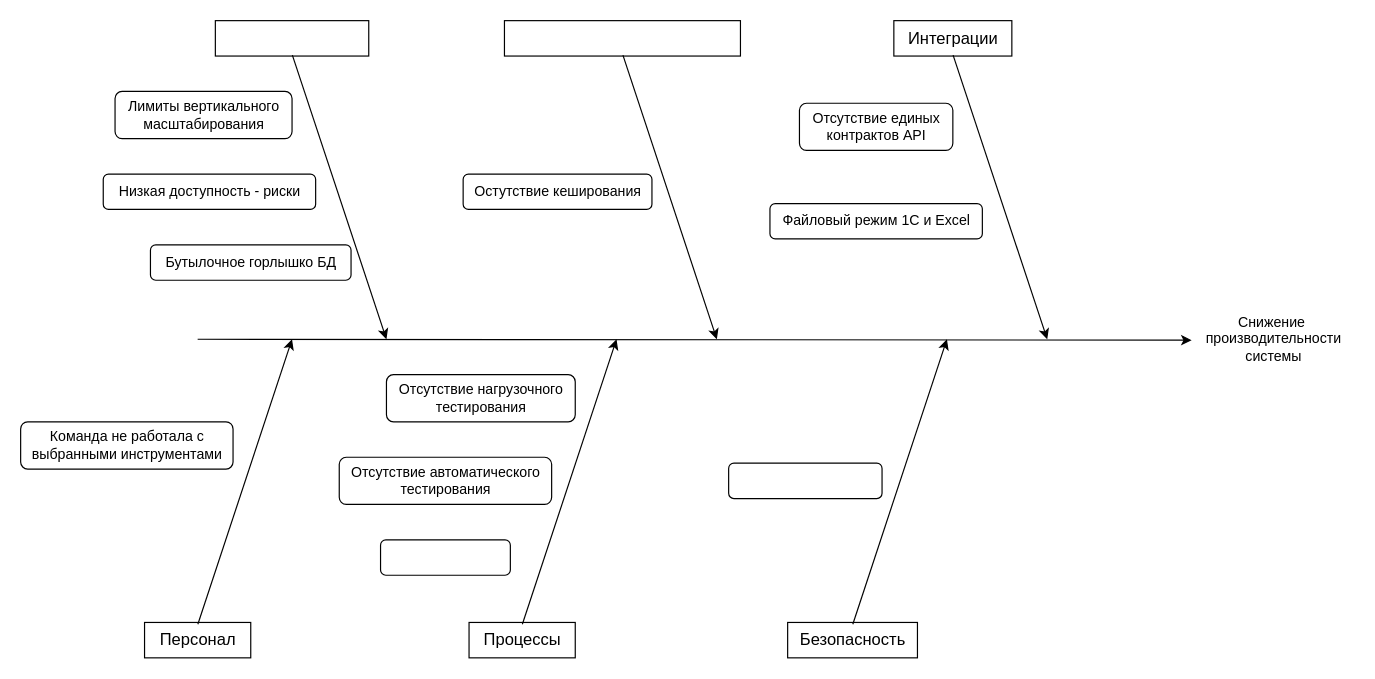
The diagram is 1375 pixels wide and 679 high, and some of its shapes have lost their labels. Here are the shapes that lost their labels. From the top down, the centre of each, then its label:
the point at 291,37: Инфраструктура
the point at 621,37: Программное обеспечение
the point at 804,480: Риск утечки данных
the point at 444,557: Редкие релизы
